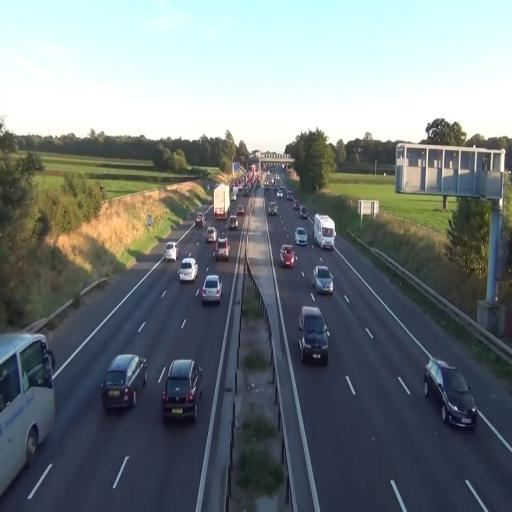vehicle: (0, 330, 57, 498), (0, 330, 56, 498), (424, 356, 477, 430), (161, 357, 203, 423), (101, 352, 147, 412), (299, 308, 330, 365), (312, 213, 336, 249), (199, 274, 222, 306), (312, 265, 334, 295), (213, 184, 230, 218), (177, 256, 198, 283), (279, 244, 296, 268), (215, 238, 229, 260), (164, 242, 178, 262), (294, 227, 308, 246), (204, 226, 218, 244), (227, 213, 239, 232)
